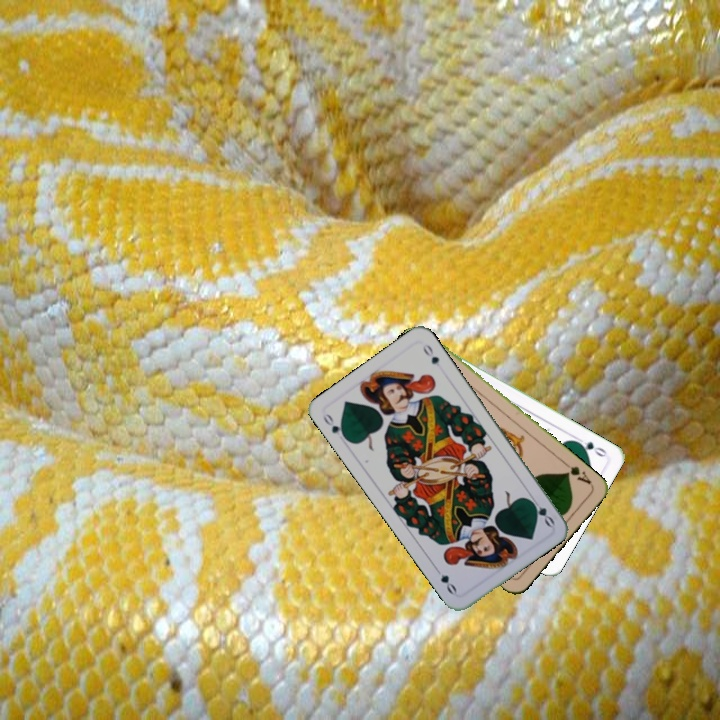GA: (560, 458, 594, 487)
GO: (525, 493, 557, 529), (319, 409, 350, 443), (571, 433, 609, 460)
